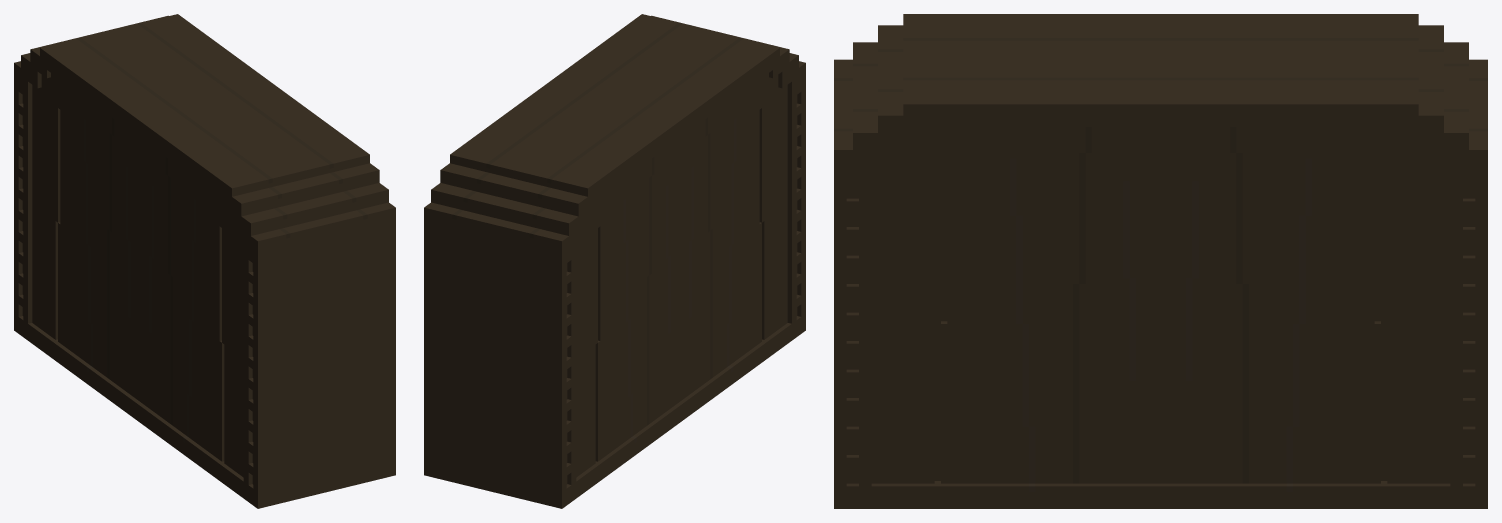
File: gate-gate.obj
The picture shows the model from 3 angles, left to right: view 1: azimuth 30°, elevation 25°; view 2: azimuth 150°, elevation 25°; view 3: azimuth 270°, elevation 25°; orthographic projection. The views are drawn at different scales.
Size of the model in its own units: 3.4 by 7.1 by 10.4.
1 material, 1 textured.
